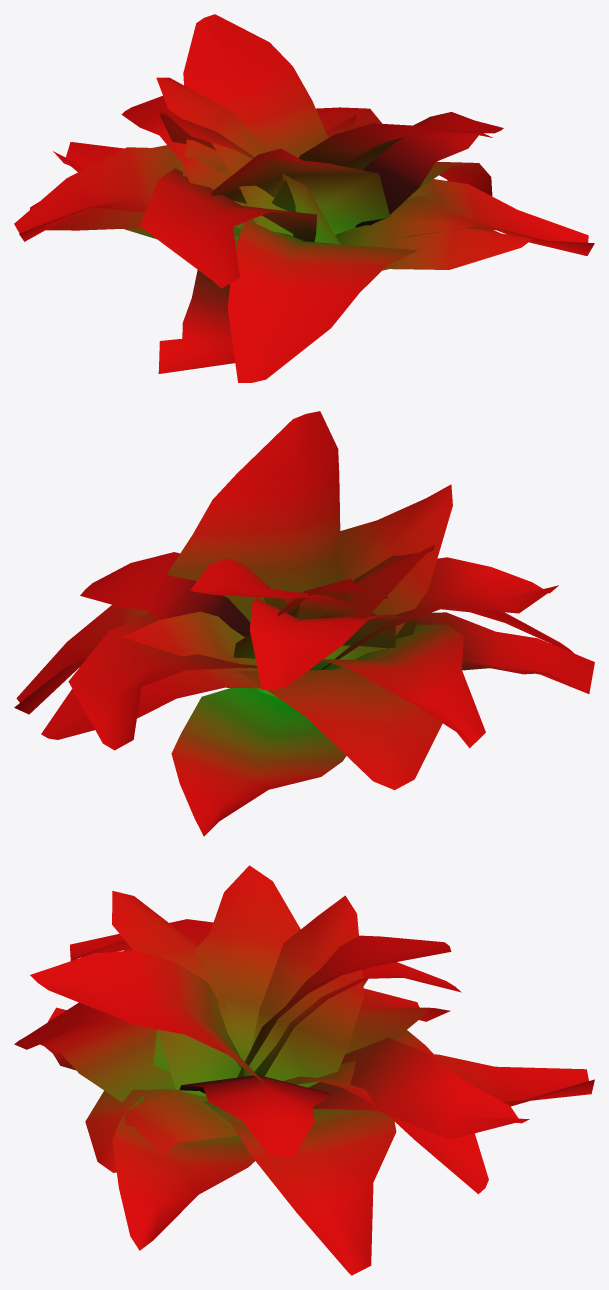
The model's file is Fern_Var3_LOD1.fbx.
The picture shows the model from 3 angles, top to bottom: view 1: azimuth 30°, elevation 25°; view 2: azimuth 150°, elevation 25°; view 3: azimuth 270°, elevation 25°; orthographic projection. The views are drawn at different scales.
Visible parts, largest first — view 1: Var3_LOD1; view 2: Var3_LOD1; view 3: Var3_LOD1.
Boxes of the visible parts, x1,y1,x2,y2 form: Var3_LOD1: [14, 14, 594, 382]; Var3_LOD1: [14, 411, 594, 836]; Var3_LOD1: [14, 865, 594, 1275].
Bounding box in the file's own units: 54.91 × 24.93 × 56.63.
